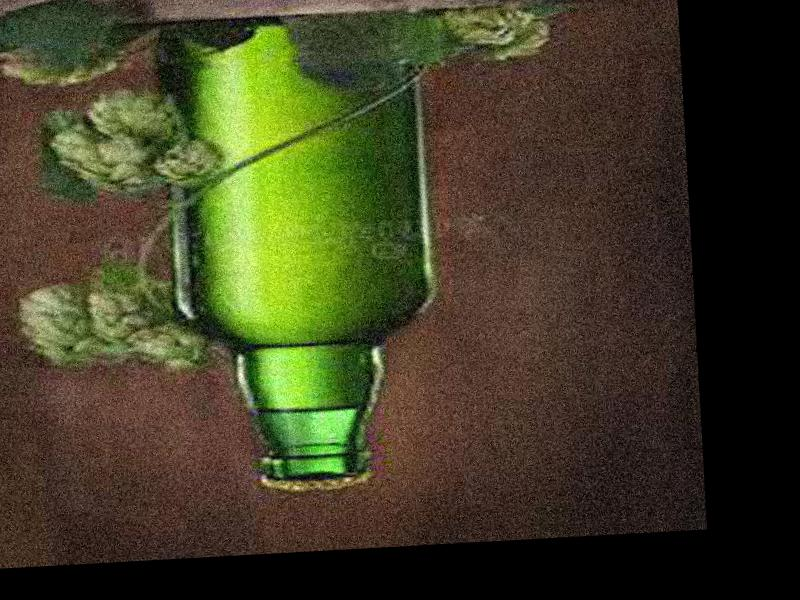Beer: (166, 0, 446, 498)
